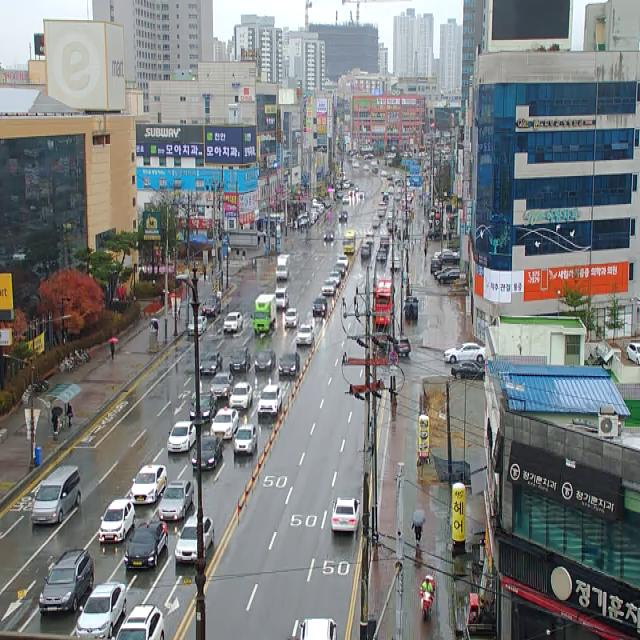Bus: (376, 280, 395, 325), (343, 230, 356, 256)
Car: (40, 550, 93, 614), (31, 467, 81, 525), (76, 584, 126, 639), (125, 522, 168, 570), (111, 604, 164, 640), (175, 516, 214, 563), (99, 500, 135, 544), (131, 464, 167, 504), (159, 481, 192, 523), (192, 436, 223, 469), (210, 406, 239, 441), (167, 421, 196, 454), (332, 497, 360, 531), (444, 343, 485, 364), (300, 618, 336, 640), (258, 384, 282, 416), (190, 395, 215, 422), (230, 381, 253, 410), (234, 424, 256, 454), (229, 346, 251, 374), (451, 362, 485, 379), (210, 373, 233, 398), (200, 351, 223, 375), (279, 352, 300, 377), (255, 350, 276, 372), (224, 312, 243, 333), (188, 316, 207, 336), (434, 250, 460, 264), (296, 326, 314, 346), (437, 269, 460, 284), (202, 298, 220, 316), (405, 297, 419, 320), (312, 298, 328, 318), (285, 308, 299, 328), (627, 343, 640, 364), (396, 339, 411, 357), (434, 267, 456, 279), (322, 280, 336, 296), (328, 271, 341, 286), (453, 290, 464, 306), (431, 259, 442, 273), (376, 249, 387, 263), (337, 255, 348, 269), (335, 262, 346, 276), (389, 257, 400, 271), (324, 229, 335, 242), (361, 244, 371, 258), (339, 210, 348, 222), (380, 237, 389, 249), (366, 232, 374, 245)
Motorcycle: (416, 569, 439, 621)
Truck: (251, 293, 276, 334), (276, 254, 290, 281), (275, 288, 289, 309)
